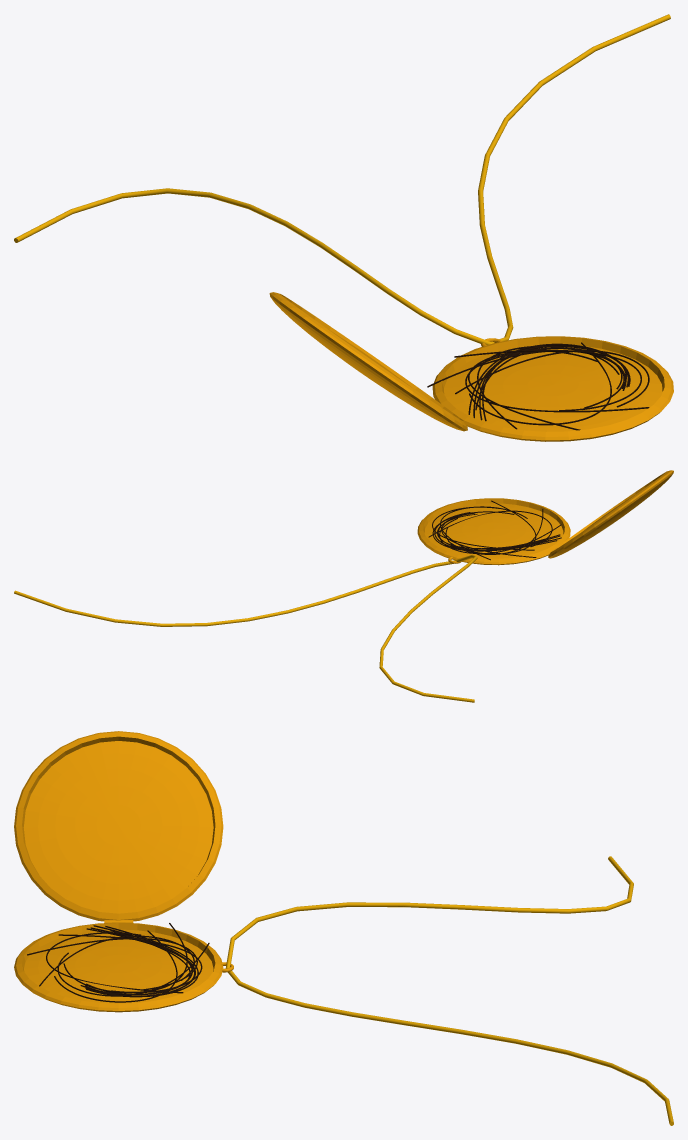
The model's file is locket.fbx.
The picture shows the model from 3 angles, top to bottom: view 1: azimuth 30°, elevation 25°; view 2: azimuth 150°, elevation 25°; view 3: azimuth 270°, elevation 25°; orthographic projection. The views are drawn at different scales.
Parts seen in each view (by area): view 1: Torus, BézierCurve, NurbsPath.006; view 2: Torus, BézierCurve, NurbsPath.006; view 3: Torus, BézierCurve, NurbsPath.006.
Part boxes in pixels (x1,y1,x2,y2): Torus: (269,292,673,441); BézierCurve: (14,14,670,344); NurbsPath.006: (427,342,649,430); Torus: (417,470,673,565); BézierCurve: (14,554,477,702); NurbsPath.006: (428,500,561,560); Torus: (14,731,233,1012); BézierCurve: (225,856,673,1125); NurbsPath.006: (27,923,209,1002).
Size of the model in its own units: 804 by 178 by 759.
